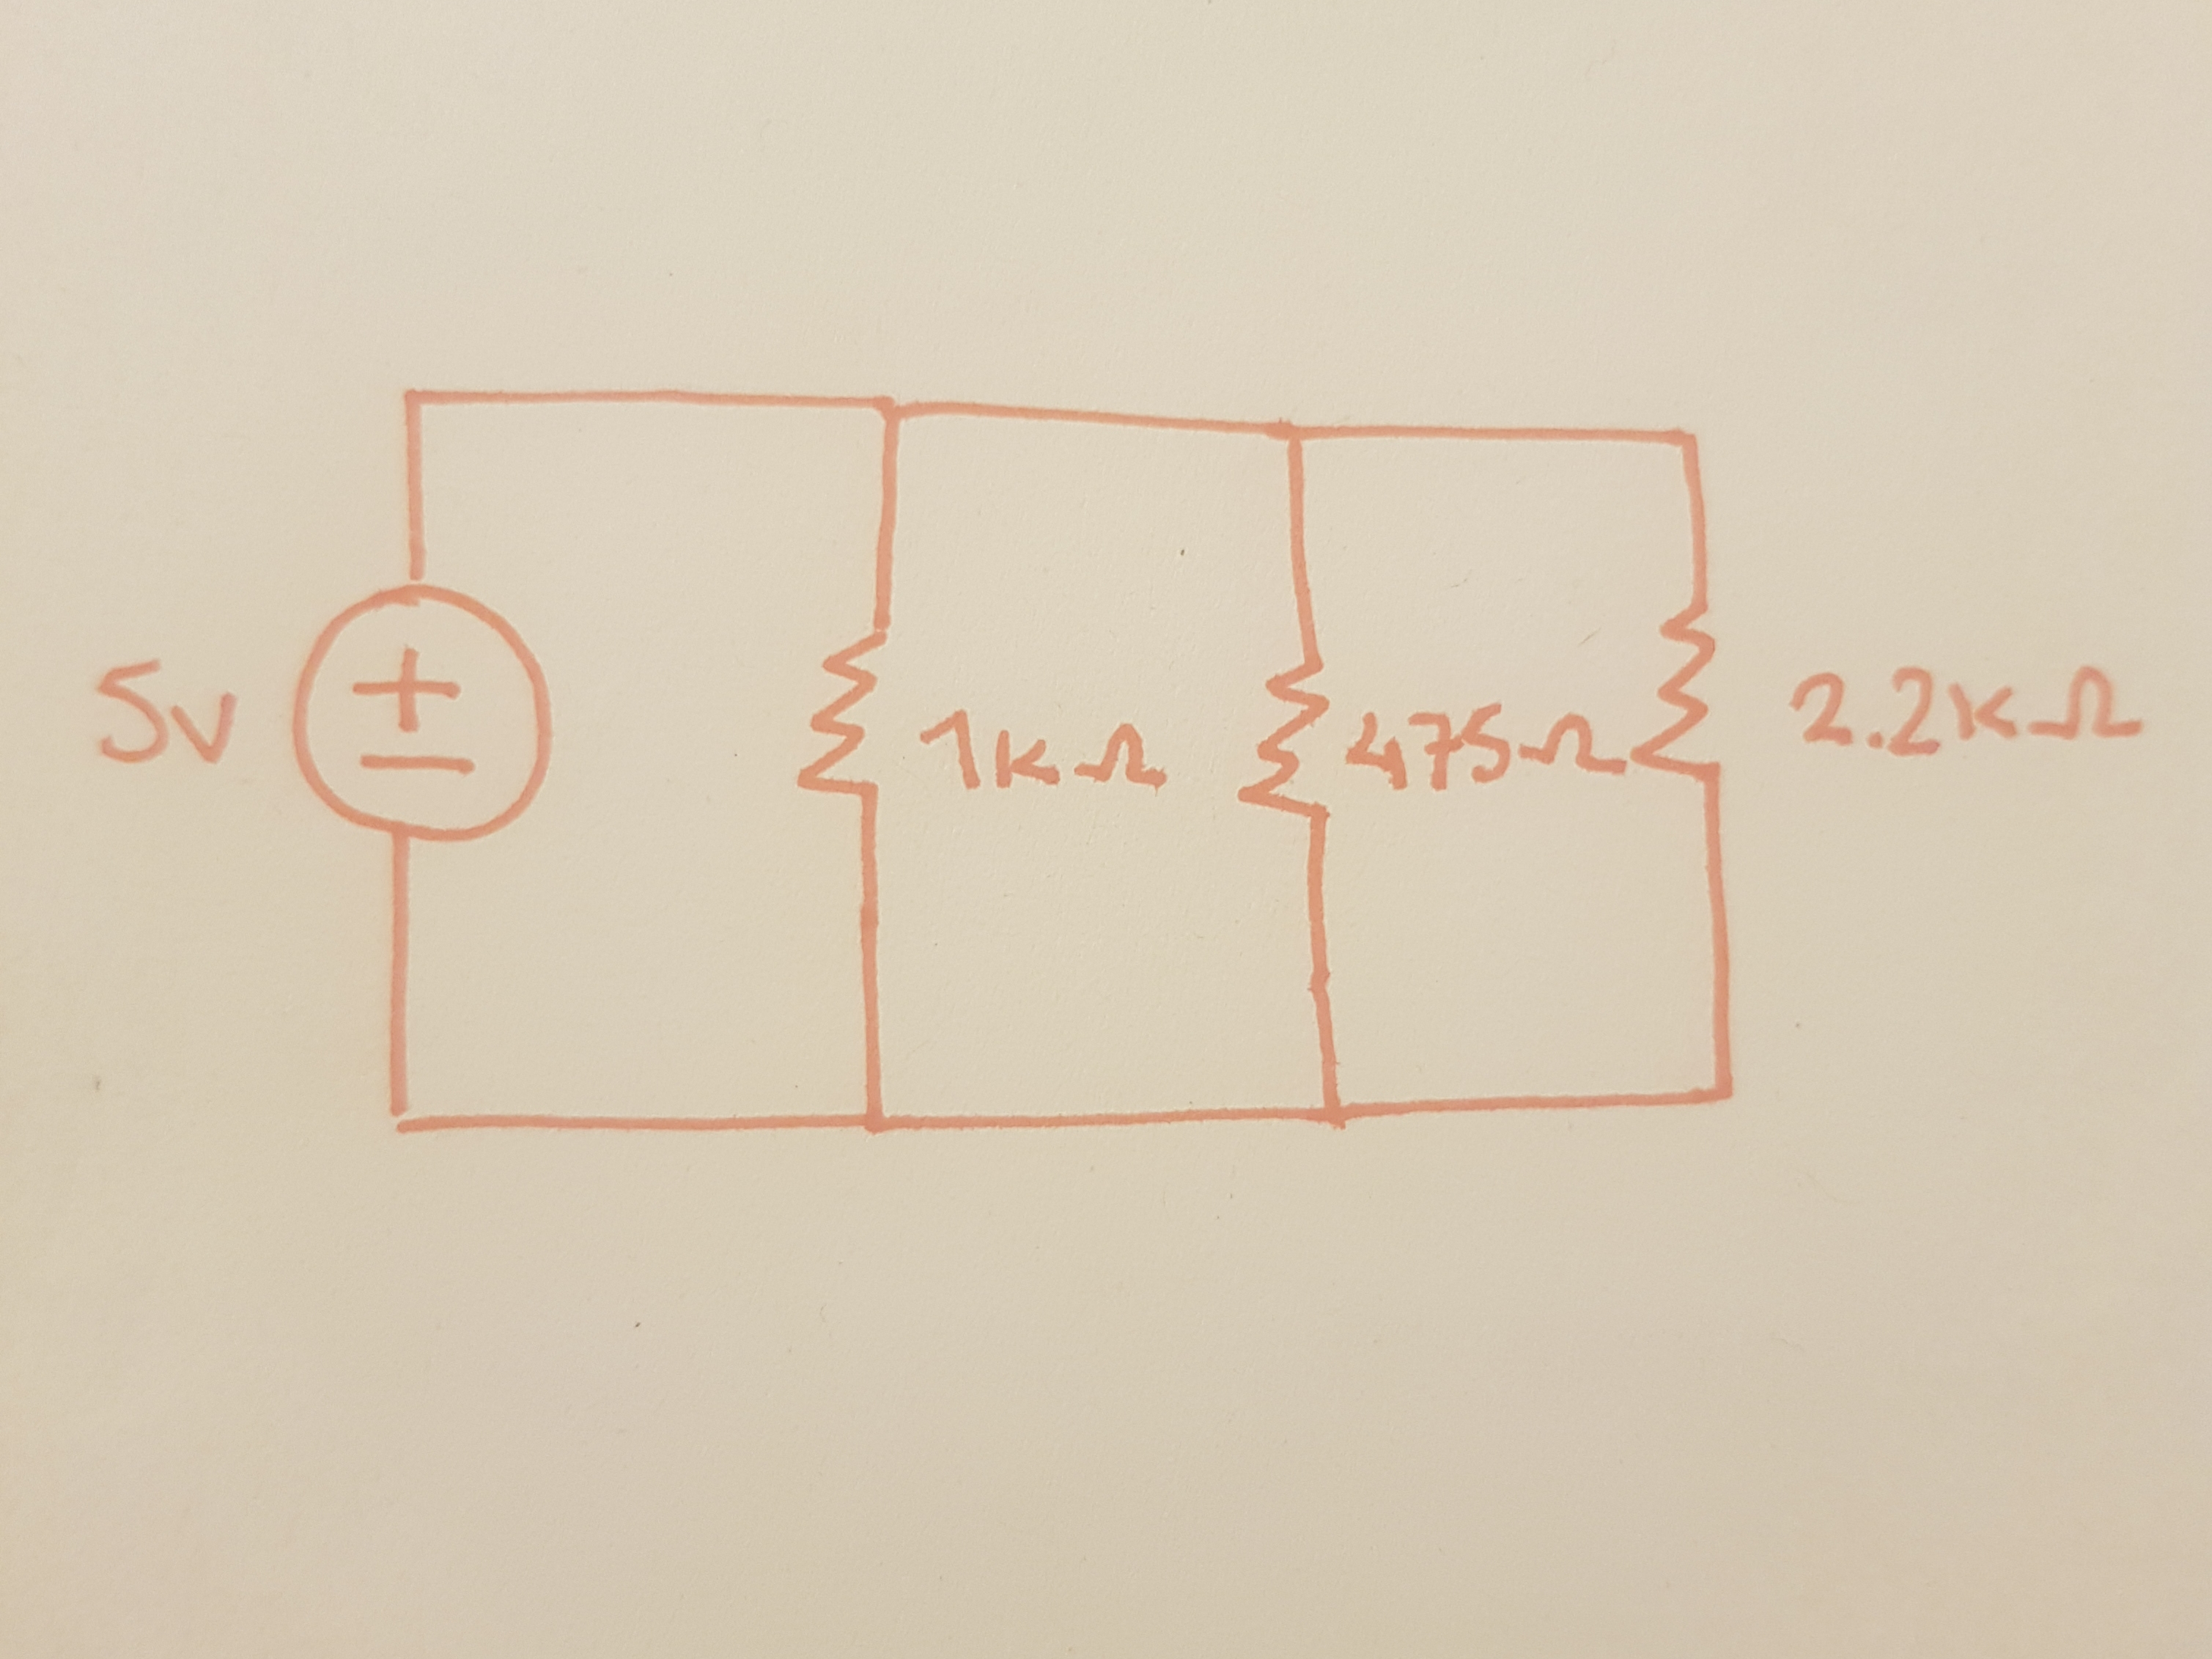junction: (366, 1079, 444, 1154), (843, 1089, 914, 1157), (383, 369, 449, 439), (1301, 1084, 1371, 1147), (1264, 403, 1324, 469), (866, 369, 916, 446), (1698, 1061, 1754, 1129), (1665, 406, 1723, 469)
resistor: (1623, 582, 1742, 803), (1226, 634, 1343, 850), (787, 615, 897, 819)
text: (1782, 652, 2139, 770), (1336, 702, 1634, 800), (916, 692, 1174, 803), (80, 638, 254, 788)
voltage.dc: (279, 577, 557, 849)
